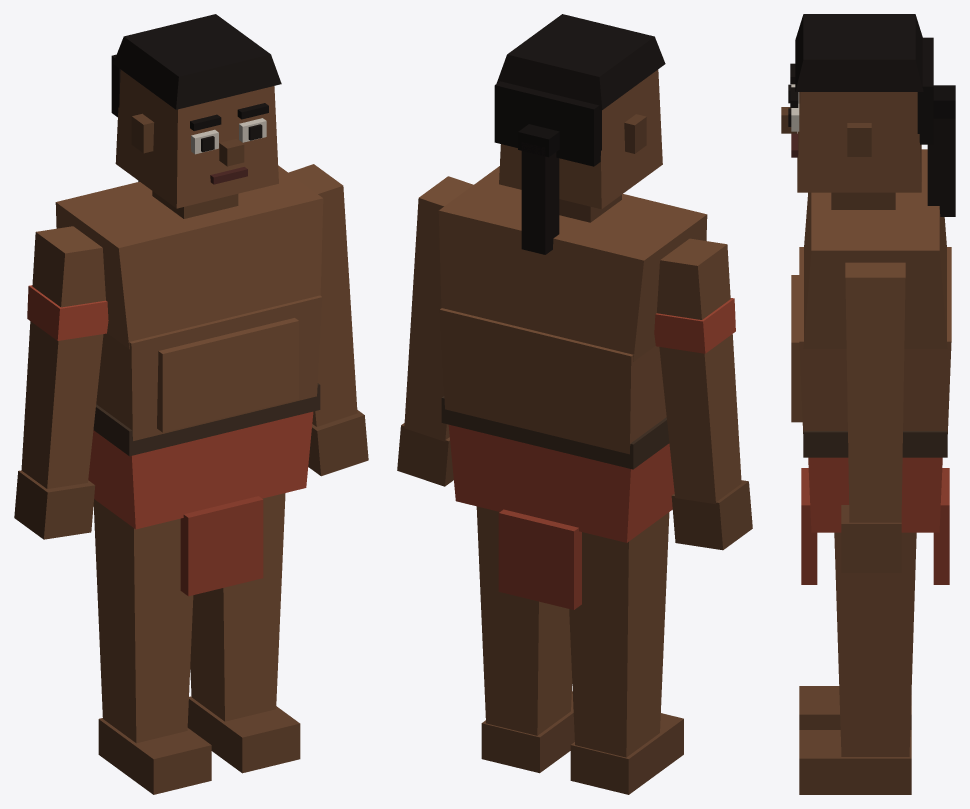
File: fighter_A3.glb
3 views of the same model, side by side, from view 1: azimuth 30°, elevation 25°; view 2: azimuth 150°, elevation 25°; view 3: azimuth 270°, elevation 25° (orthographic).
Parts seen in each view (by area): view 1: torso, head, hips, leg_R, arm_R, leg_L, arm_L; view 2: torso, head, hips, leg_R, arm_R, leg_L, arm_L; view 3: head, torso, leg_L, arm_L, hips, leg_R.
Part boxes in pixels (x1,y1,x2,y2): torso: (55,165,323,440); head: (111,14,281,218); hips: (88,383,320,596); leg_R: (93,499,211,794); arm_R: (14,226,108,539); leg_L: (187,493,300,773); arm_L: (288,164,368,476); torso: (438,166,707,454); head: (494,14,665,254); hips: (441,396,674,609); leg_R: (569,512,683,794); arm_R: (654,238,752,550); leg_L: (476,506,574,773); arm_L: (397,176,473,486); head: (781,14,955,216); torso: (791,149,951,433); leg_L: (799,532,916,794); arm_L: (841,262,905,572); hips: (801,431,949,584); leg_R: (799,686,911,729).
Bounding box in the file's own units: 0.9528 × 1.99 × 0.435.
